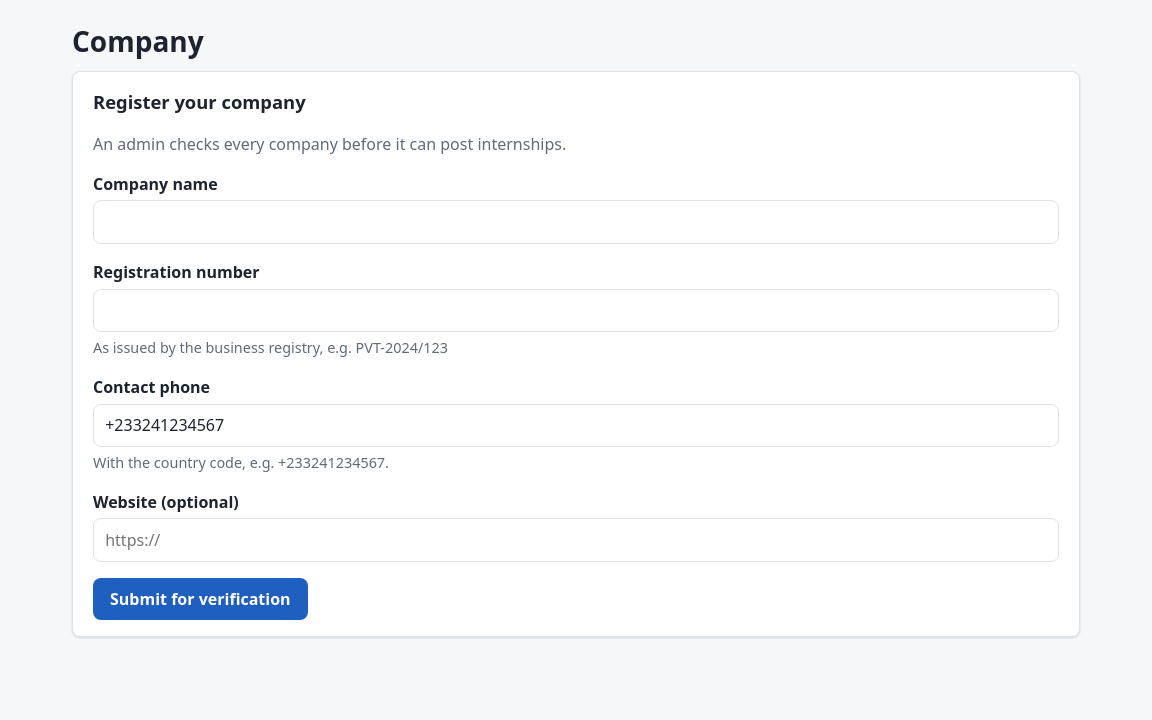
Test: CompanyDashboard (US-04) › shows a taken registration number on its field
Type "Acme Ltd" into the field labelled "Company name". click: (576, 222)
box: [93,200,1059,244]
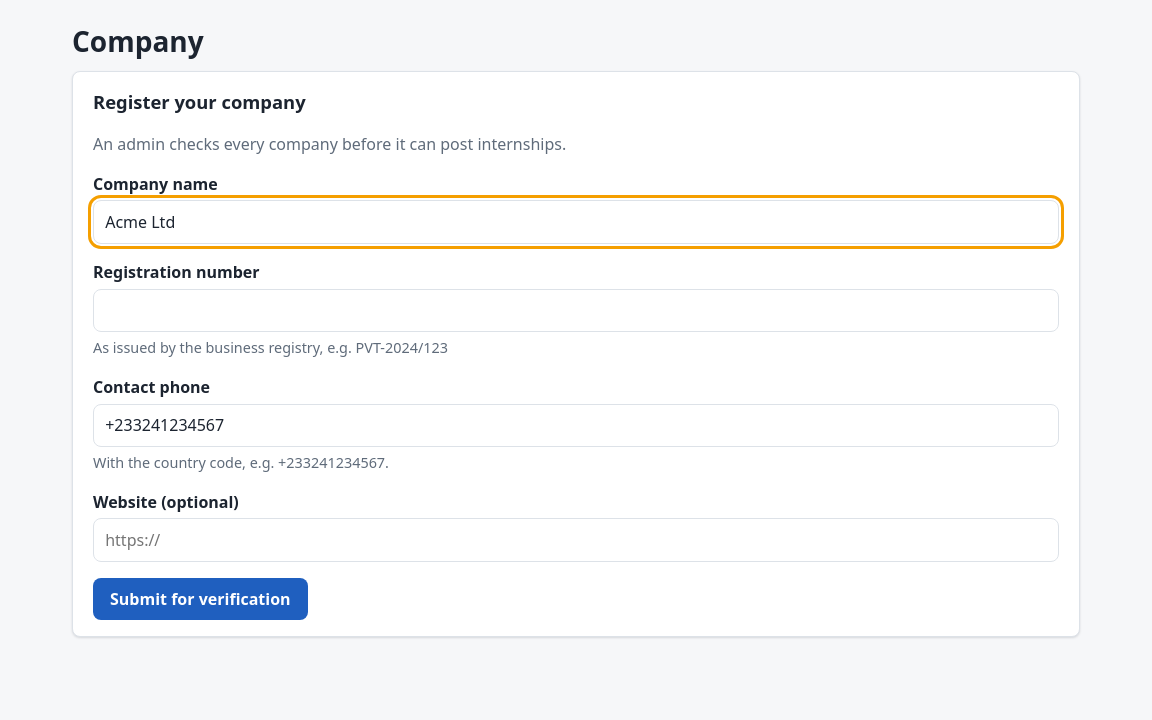
Type "PVT-1" into the field labelled "Registration number". click: (576, 311)
box: [93,289,1059,332]
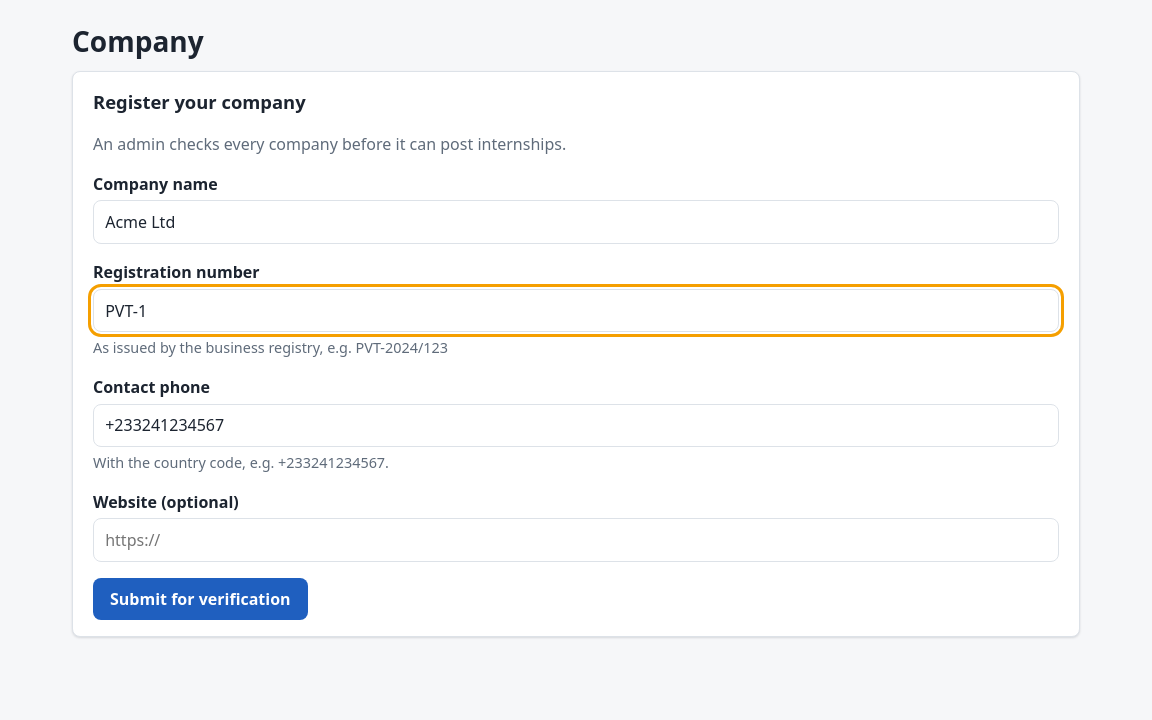
Click the button "Submit for verification". click: (200, 599)
box: [93,578,308,620]
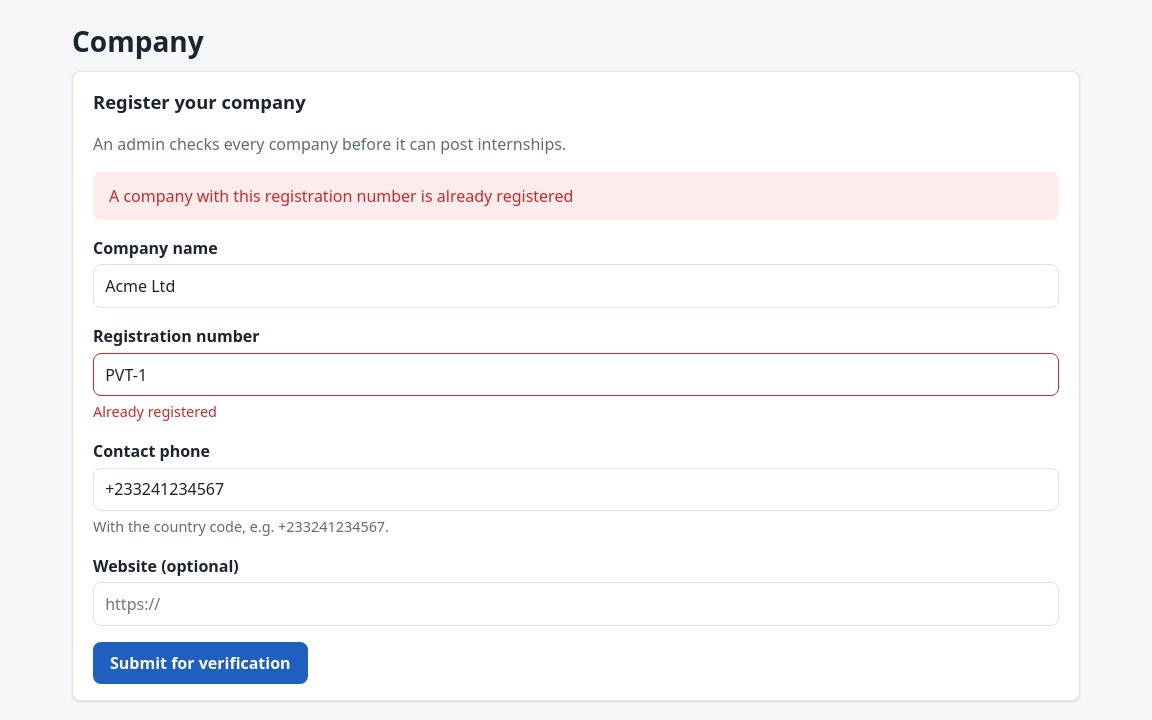
Expected: the text "Already registered" is shown, [93,402,217,421]
